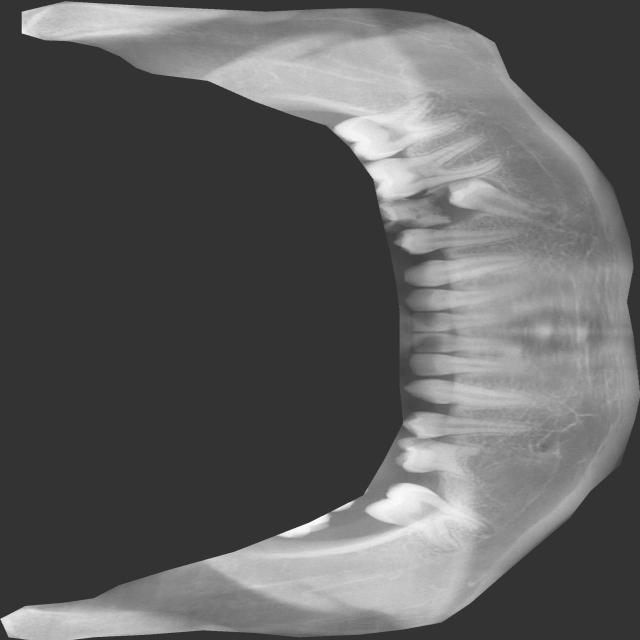mandibula: (0, 0, 640, 640)
